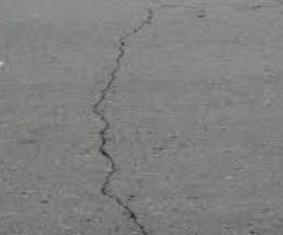crack: (89, 6, 162, 233)
